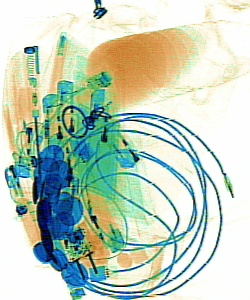lighter: (1, 165, 49, 249), (82, 100, 141, 167), (81, 88, 114, 174), (13, 85, 43, 177), (81, 191, 126, 252), (40, 93, 66, 185), (45, 131, 79, 201), (51, 77, 78, 165)
